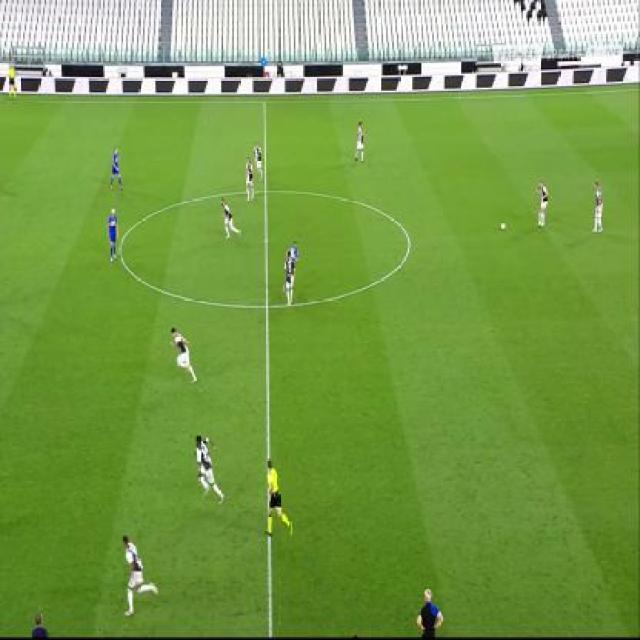ball: (499, 221, 508, 235)
player: (116, 530, 158, 616), (259, 462, 295, 547), (191, 435, 225, 506), (168, 326, 199, 392), (414, 582, 447, 639), (220, 196, 243, 241), (26, 606, 55, 640), (107, 204, 121, 266), (591, 179, 605, 239), (535, 180, 551, 229), (283, 251, 296, 310), (242, 156, 256, 202), (110, 146, 124, 192), (356, 120, 367, 166), (6, 63, 17, 103), (253, 143, 264, 180), (290, 238, 303, 261)
